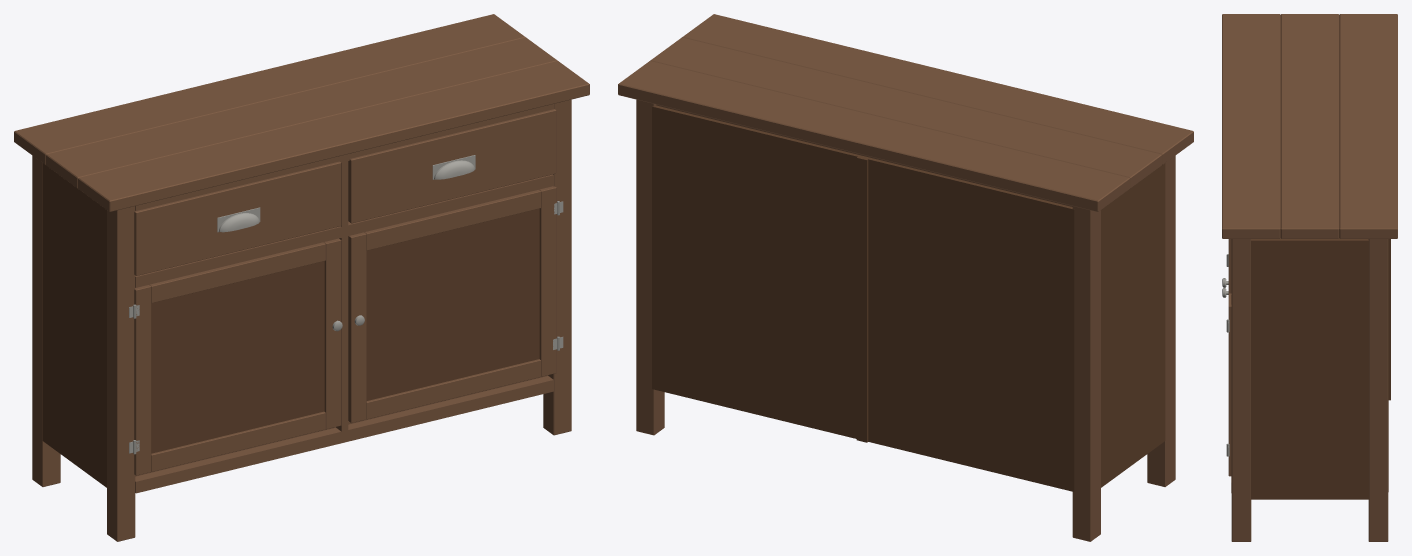
File: coffee-sideboard-4581d8361b5b.glb
The picture shows the model from 3 angles, left to right: view 1: azimuth 30°, elevation 25°; view 2: azimuth 150°, elevation 25°; view 3: azimuth 270°, elevation 25°; orthographic projection. The views are drawn at different scales.
Parts seen in each view (by area): view 1: wood-walnut, wood-walnut-dark, brushed; view 2: wood-walnut-dark, wood-walnut; view 3: wood-walnut, wood-walnut-dark, brushed.
Boxes of the visible parts, <box> form: wood-walnut: <box>14,14,589,541</box>; wood-walnut-dark: <box>42,163,539,487</box>; brushed: <box>129,155,563,454</box>; wood-walnut-dark: <box>652,105,1165,491</box>; wood-walnut: <box>618,14,1193,541</box>; wood-walnut: <box>1222,14,1397,541</box>; wood-walnut-dark: <box>1251,238,1390,499</box>; brushed: <box>1222,254,1229,456</box>.
Bounding box in the file's own units: 1.3 × 0.9 × 0.4496.
